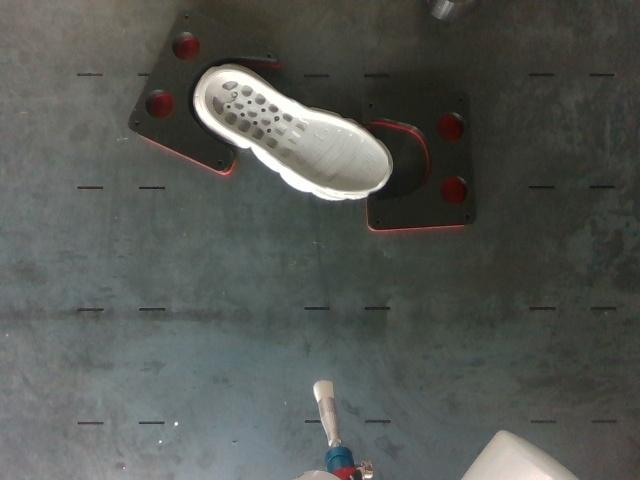shoes: (204, 70, 390, 193)
